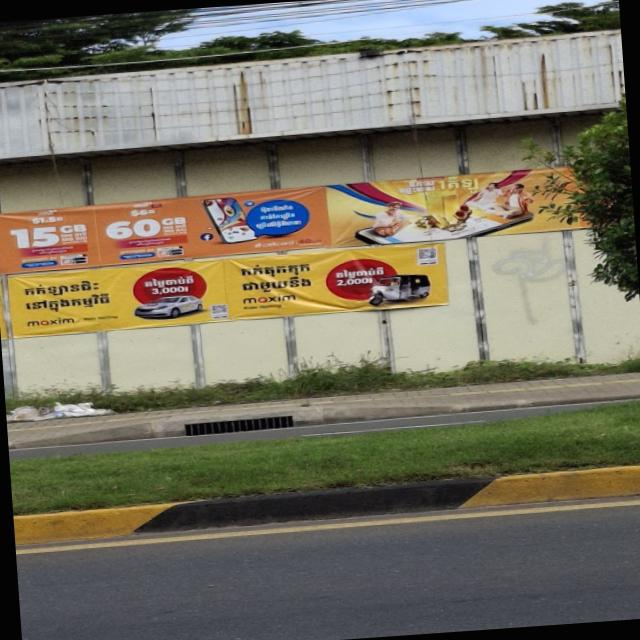Yolov11_80vkh: (20, 270, 118, 316), (234, 256, 320, 295), (132, 268, 207, 299), (327, 262, 400, 291)
